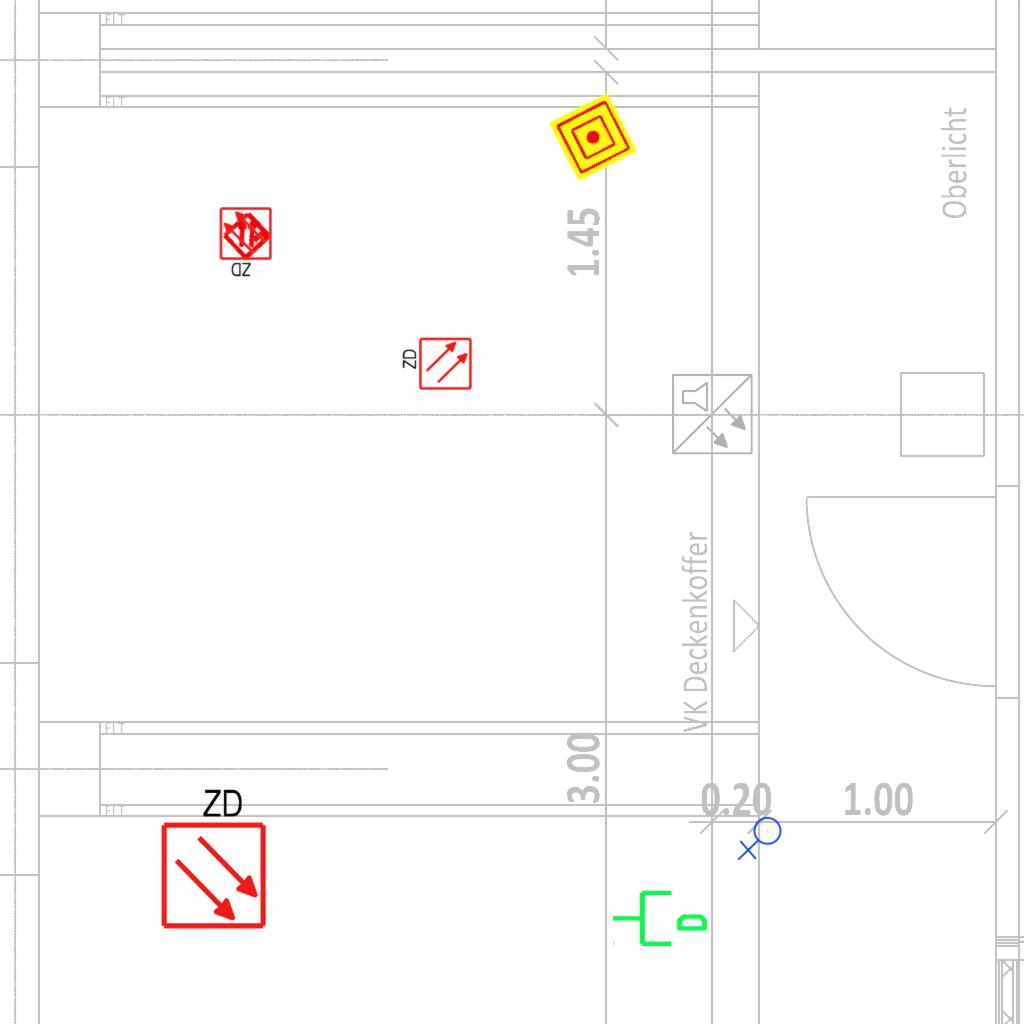Datenanschluss_einfach: (610, 882, 710, 951)
Elektroanschluss_allgemein_230V_Geraeteanschlussdose_230V: (737, 816, 786, 863)
NAM-Nichtautomatischer_Melder: (548, 92, 638, 182)
OT_Multisensormelder_(Kombination_RMO_WMD): (208, 195, 288, 275)
ZD_Melder_in_Zwischendecke_mit_Revisionsoeffnung_mind_40_x_40_cm: (155, 782, 269, 931), (399, 336, 473, 393), (218, 206, 275, 280)
